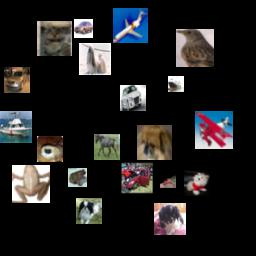airplane: (195, 111, 233, 149), (113, 8, 148, 43)
automobile: (121, 162, 153, 194), (4, 67, 30, 93), (120, 85, 146, 111), (74, 19, 93, 38)
bird: (176, 29, 214, 67)
cat: (37, 21, 72, 56)
dog: (137, 125, 172, 160), (79, 43, 111, 75), (154, 203, 186, 235), (184, 170, 210, 196), (76, 198, 102, 224), (37, 136, 63, 162)
frog: (12, 165, 50, 203), (68, 168, 87, 187), (160, 172, 176, 188)
ship: (0, 111, 32, 143), (168, 76, 184, 92)
